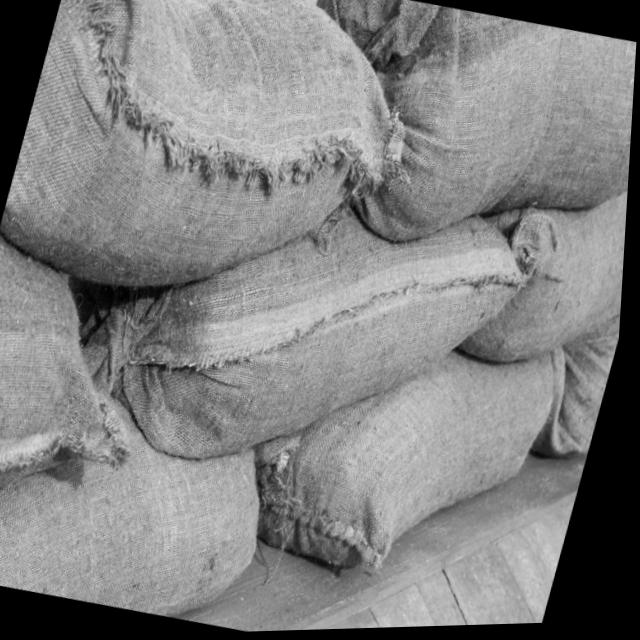sack: (55, 142, 545, 522), (0, 0, 435, 340), (257, 0, 640, 297), (235, 300, 569, 604), (0, 358, 297, 636), (0, 234, 182, 545), (454, 130, 633, 390)
